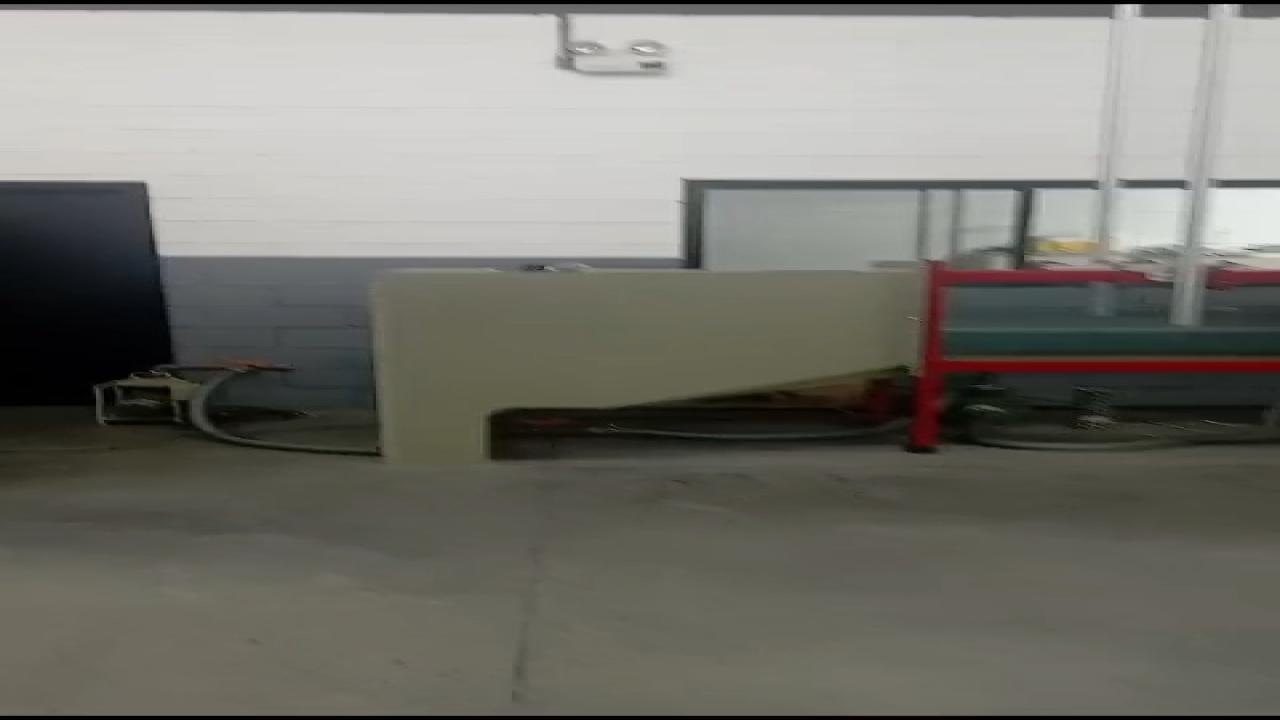Cube: (522, 264, 554, 271)
